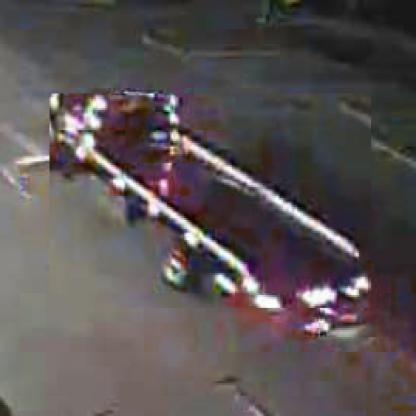container: (49, 95, 372, 311)
